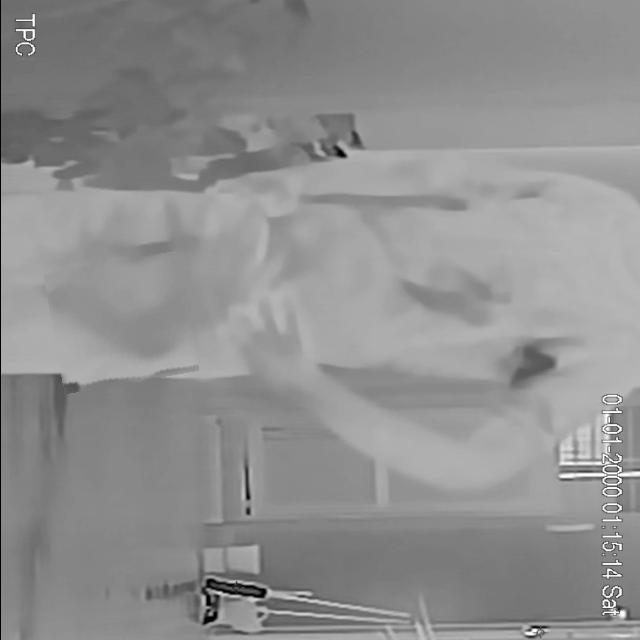Weapon: (47, 256, 194, 389)
